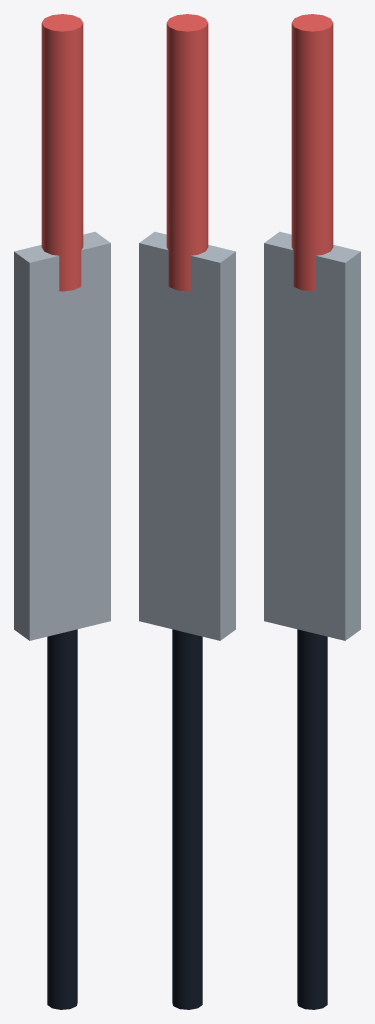
The model's file is electrode.glb.
3 views of the same model, side by side, from view 1: azimuth 30°, elevation 25°; view 2: azimuth 150°, elevation 25°; view 3: azimuth 330°, elevation 25° (orthographic).
Bounding box in the file's own units: 0.18 × 2.07 × 0.08.
